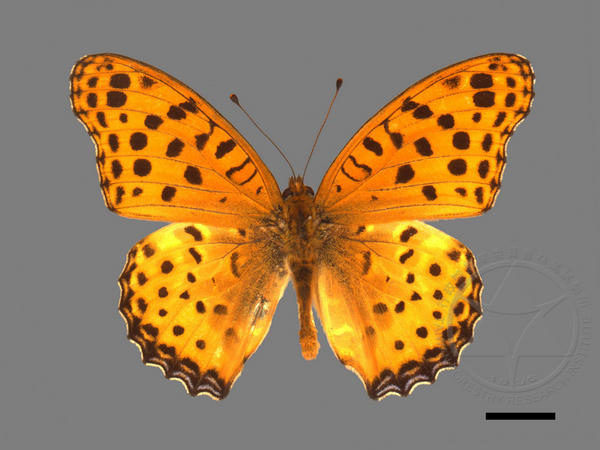Argyreus hyperbius: (62, 48, 541, 406)
butterfly: (64, 50, 543, 408)
